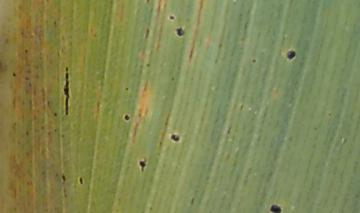tarspot: (62, 64, 72, 116), (174, 25, 187, 38), (285, 48, 296, 61), (169, 132, 181, 143), (269, 203, 282, 213), (138, 157, 146, 173), (77, 175, 85, 186), (60, 173, 68, 183), (225, 125, 233, 135), (238, 101, 245, 112), (167, 14, 176, 22), (144, 27, 150, 39), (250, 57, 258, 65), (22, 47, 30, 55), (123, 113, 130, 122), (189, 196, 195, 206), (52, 19, 58, 29), (144, 62, 152, 69), (10, 71, 18, 78), (326, 111, 334, 118), (217, 41, 223, 50), (60, 132, 67, 139), (23, 75, 31, 81), (26, 80, 32, 88), (24, 129, 30, 137), (45, 99, 50, 108), (52, 127, 59, 133), (157, 140, 163, 147), (170, 74, 175, 82), (123, 86, 129, 92), (19, 30, 25, 36), (52, 111, 57, 118), (144, 1, 150, 5), (44, 1, 50, 4)
